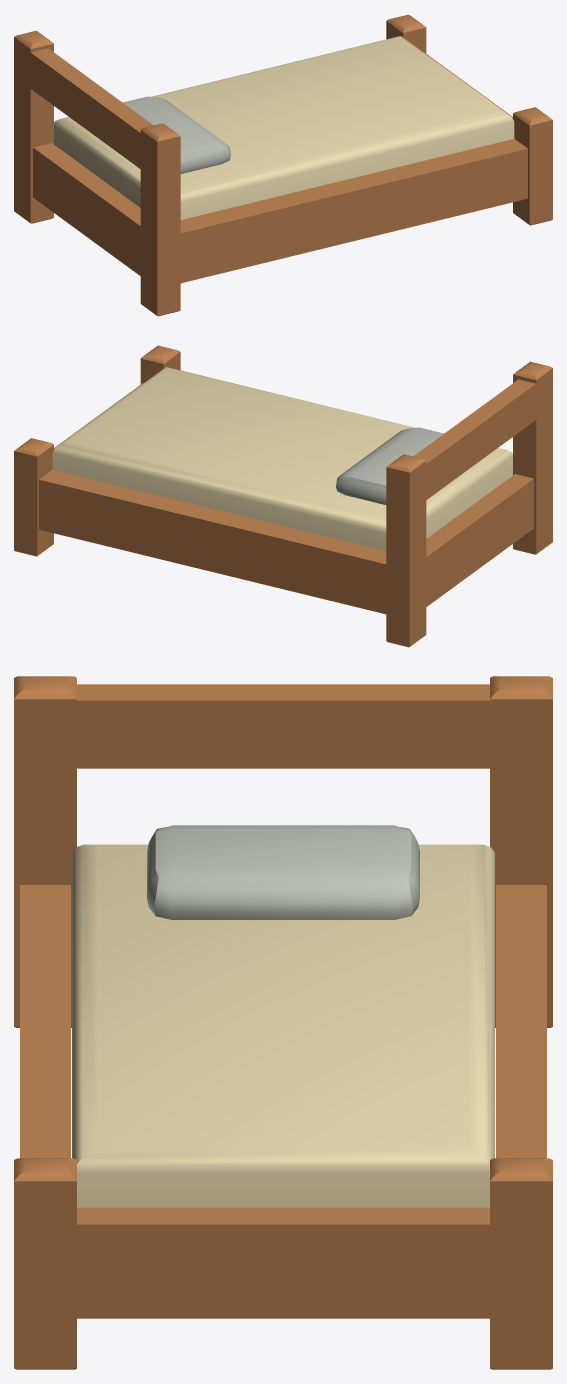
Rendered from bed.fbx.
3 views of the same model, one above another, from view 1: azimuth 30°, elevation 25°; view 2: azimuth 150°, elevation 25°; view 3: azimuth 270°, elevation 25° (orthographic). The views are drawn at different scales.
Parts seen in each view (by area): view 1: bedframe, bed, pillow; view 2: bedframe, bed, pillow; view 3: bedframe, bed, pillow.
Part boxes in pixels (box(x1,y1,x2,y2)): bedframe: box(14, 14, 552, 316); bed: box(54, 36, 514, 219); pillow: box(123, 96, 230, 173); bedframe: box(14, 345, 552, 647); bed: box(52, 367, 512, 550); pillow: box(336, 427, 443, 504); bedframe: box(14, 676, 552, 1369); bed: box(72, 844, 494, 1207); pillow: box(147, 825, 419, 919).
Bounding box in the file's own units: 638 × 275 × 400.
